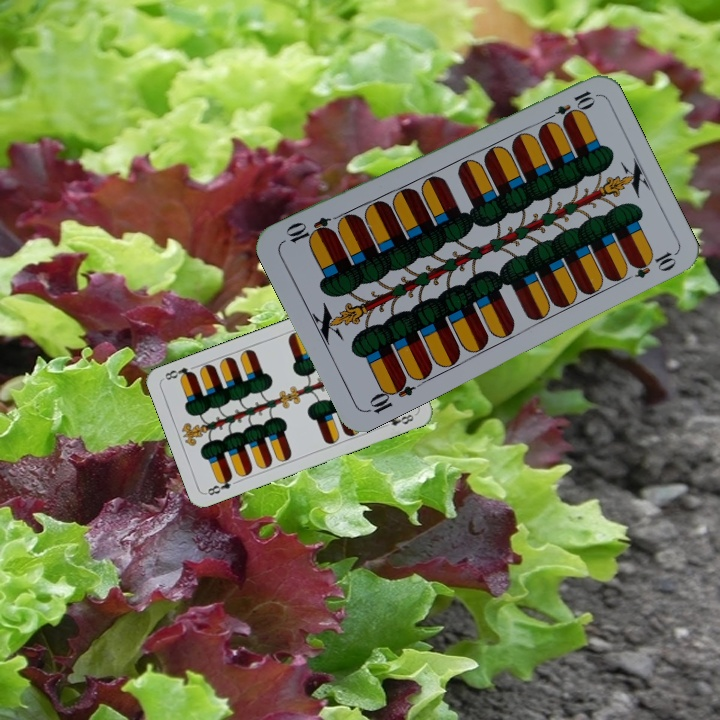E10: (362, 373, 417, 416), (541, 86, 597, 125)
E8: (203, 472, 235, 498)
